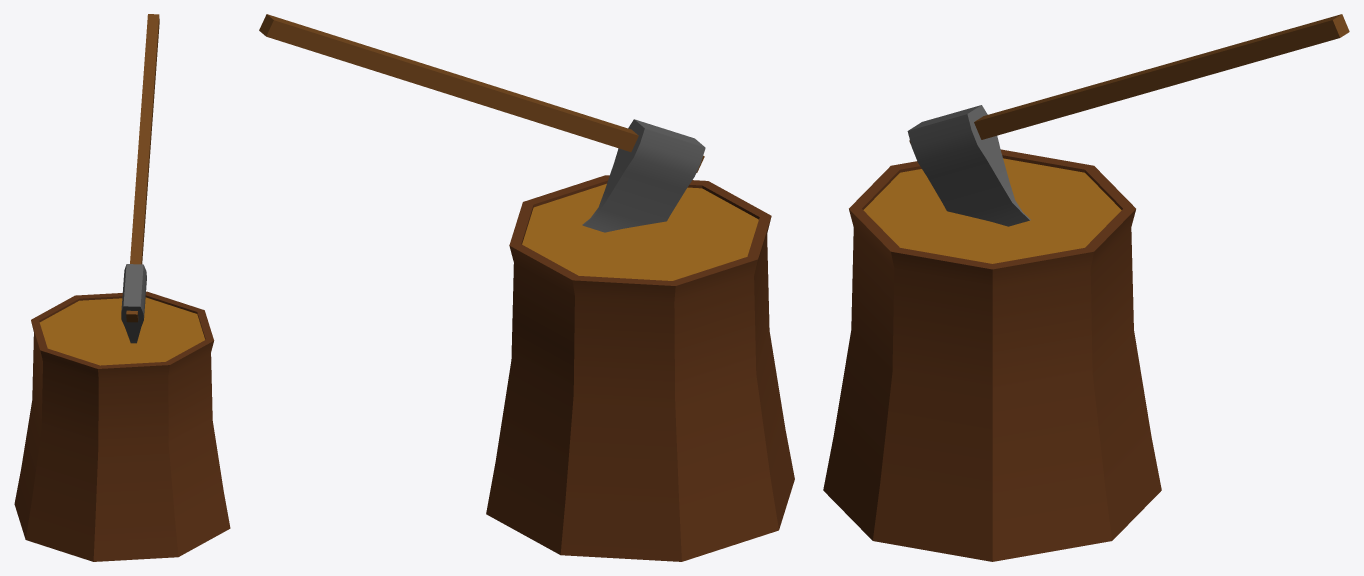
The model's file is Stump_with_Axe.fbx.
3 views of the same model, side by side, from view 1: azimuth 30°, elevation 25°; view 2: azimuth 150°, elevation 25°; view 3: azimuth 270°, elevation 25° (orthographic). The views are drawn at different scales.
Visible parts, largest first — view 1: Circle; view 2: Circle; view 3: Circle.
Boxes of the visible parts, box(x1,y1,x2,y2) form: Circle: box(14, 14, 230, 561); Circle: box(259, 14, 794, 561); Circle: box(823, 14, 1349, 561).
Size of the model in its own units: 3.17 by 4.66 by 3.83.
